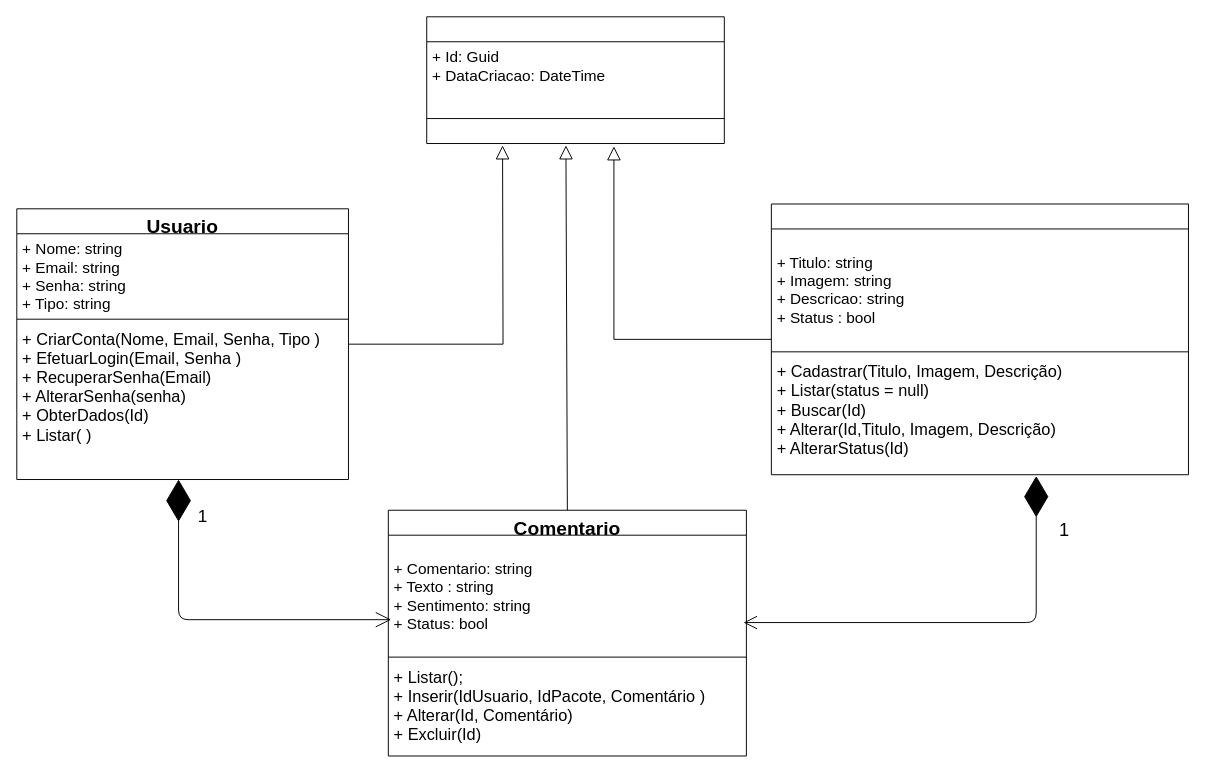
This 1206x776 diagram has some shape labels left out. The box of each missing label's shape, as (x1, y1, x2, y2) in pixels:
Base: (426, 16, 724, 144)
Pacote: (770, 203, 1188, 475)
